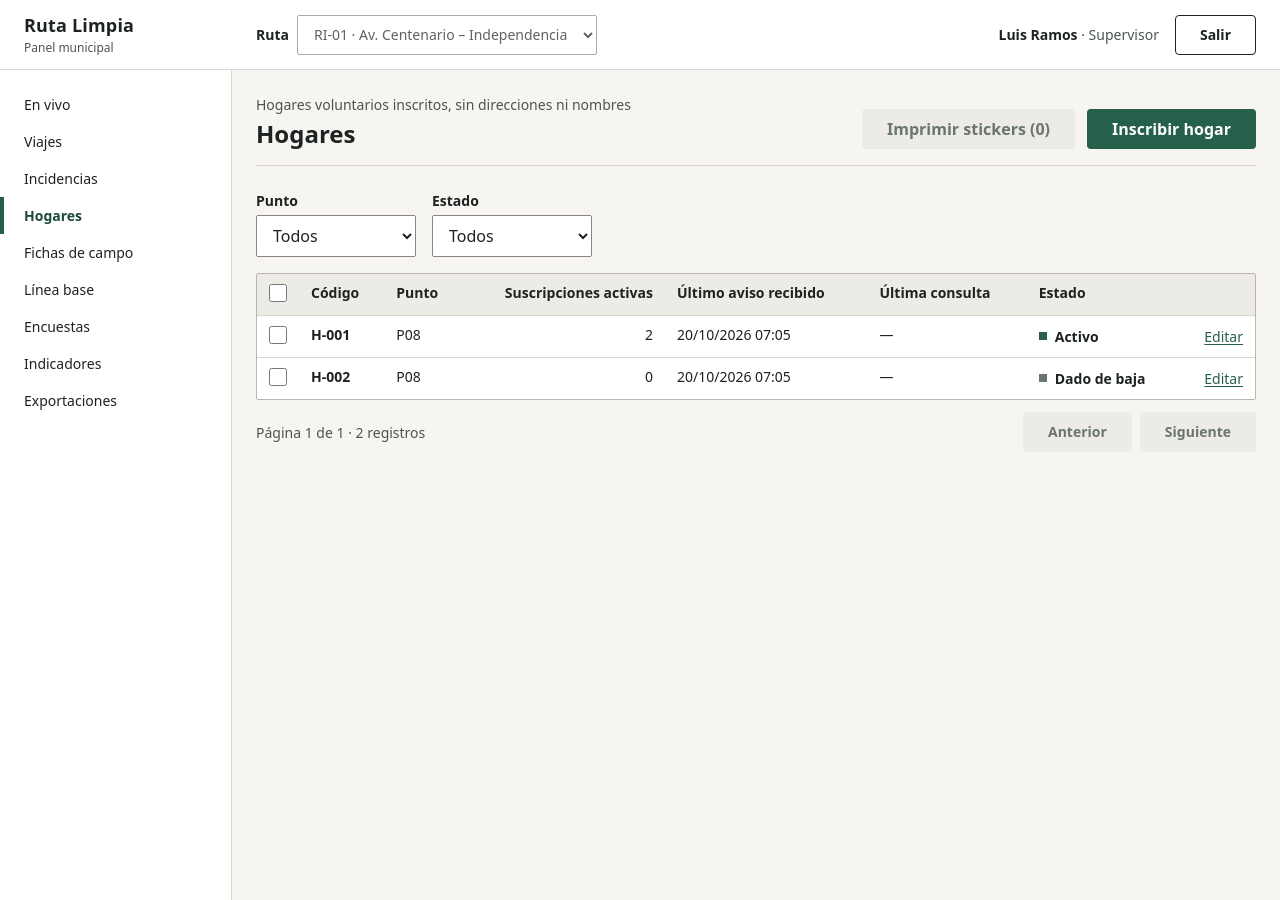
Test: HouseholdsPage › explains a point the API refuses
Click the button "Inscribir hogar" at (1172, 129), box [1087, 109, 1256, 149]
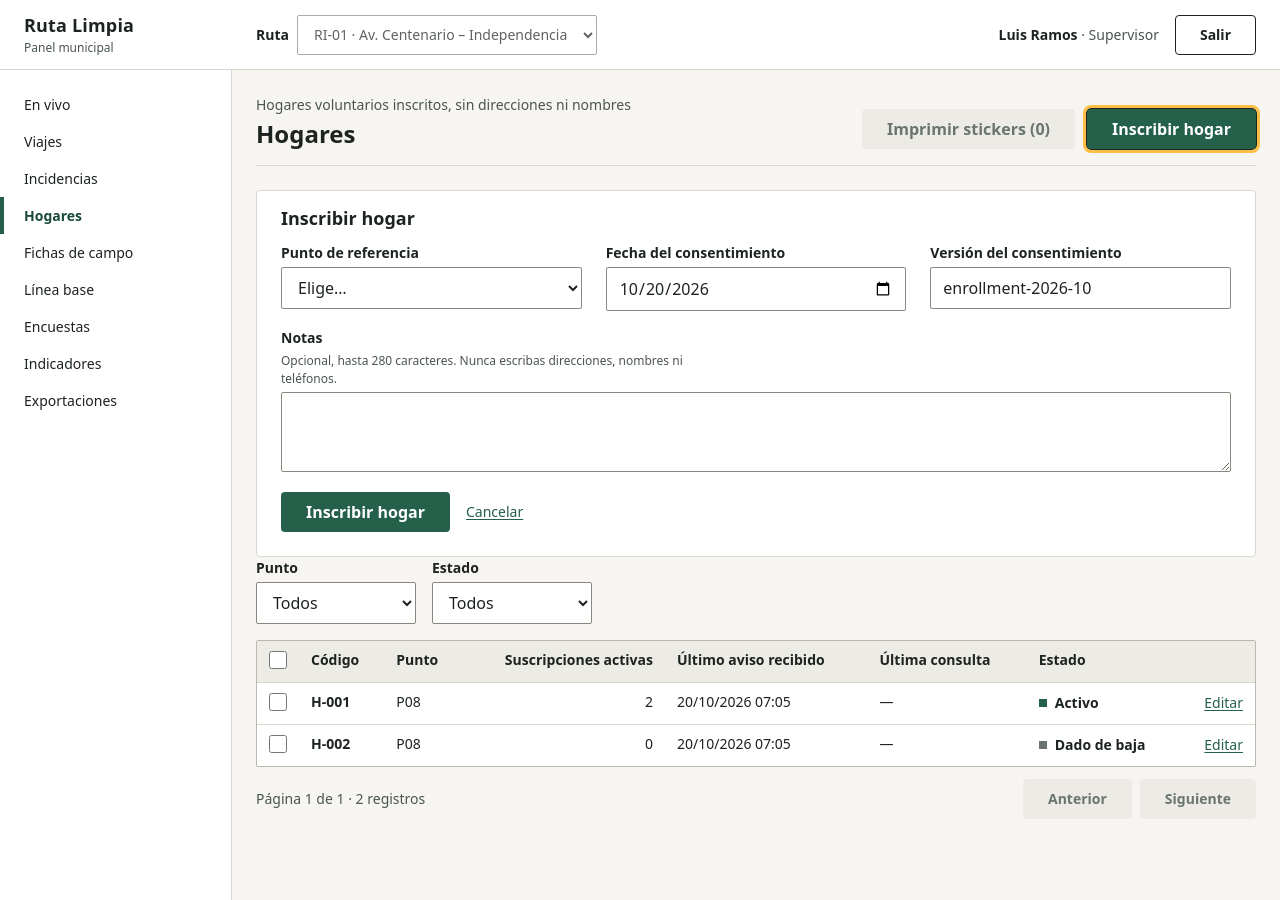
Select "P09 · Av. Centenario · punto 9" in the dropdown labelled "Punto de referencia" at (431, 288), box [281, 266, 582, 308]
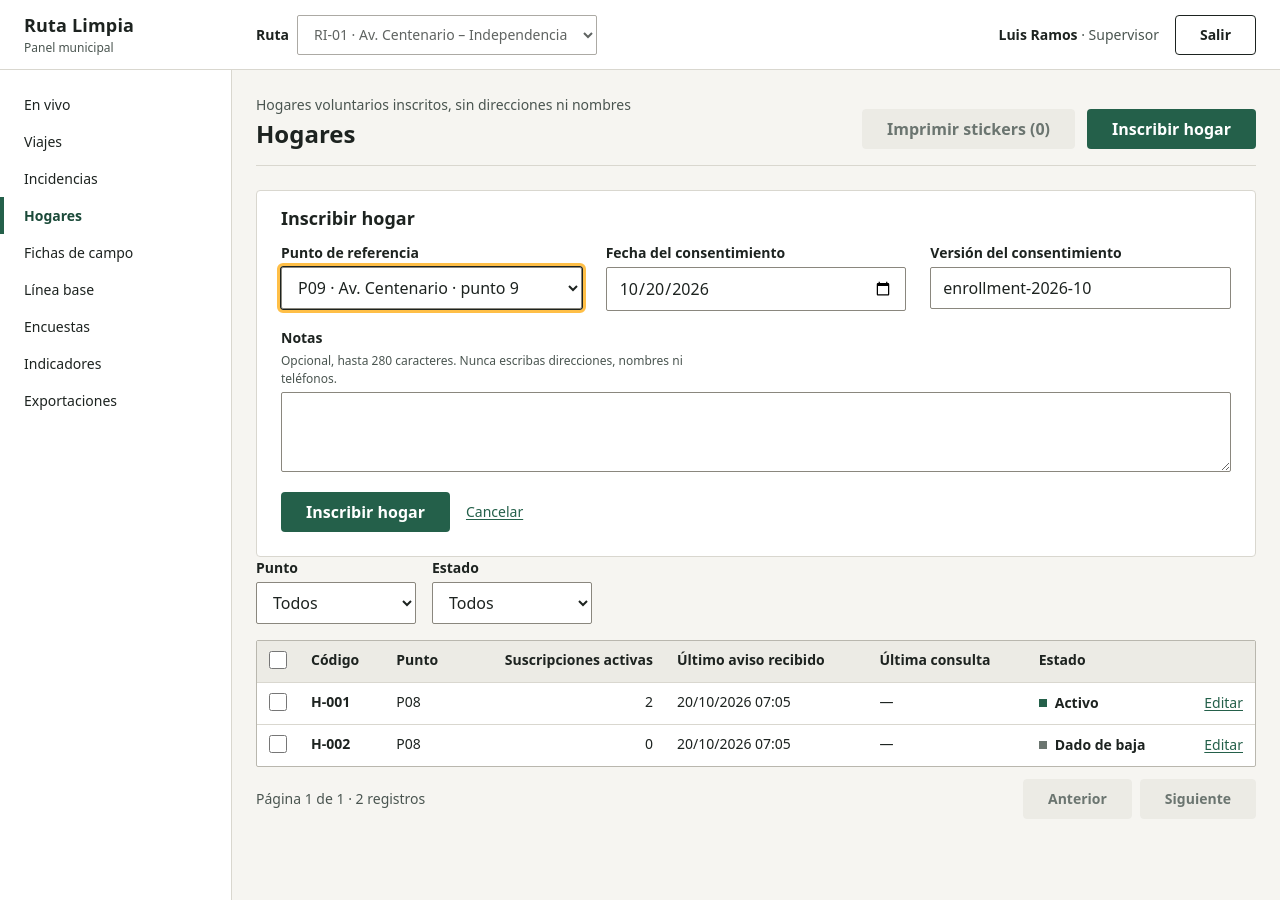
Click the button "Inscribir hogar" below "Notas" at (366, 512), box [281, 492, 450, 532]
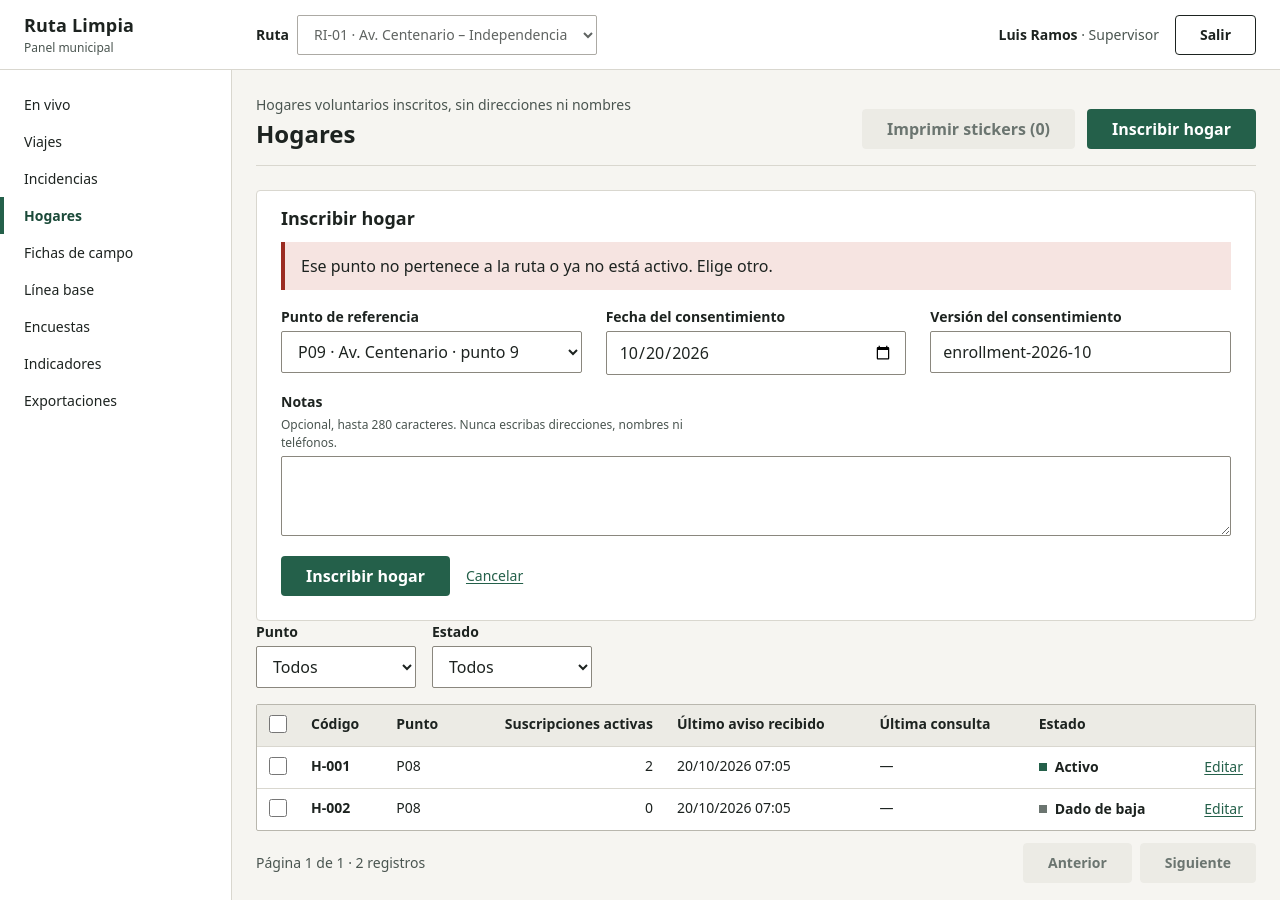
Expected: the text "Ese punto no pertenece a la ruta o ya no está activo. Elige otro." is shown, [301, 254, 773, 276]
